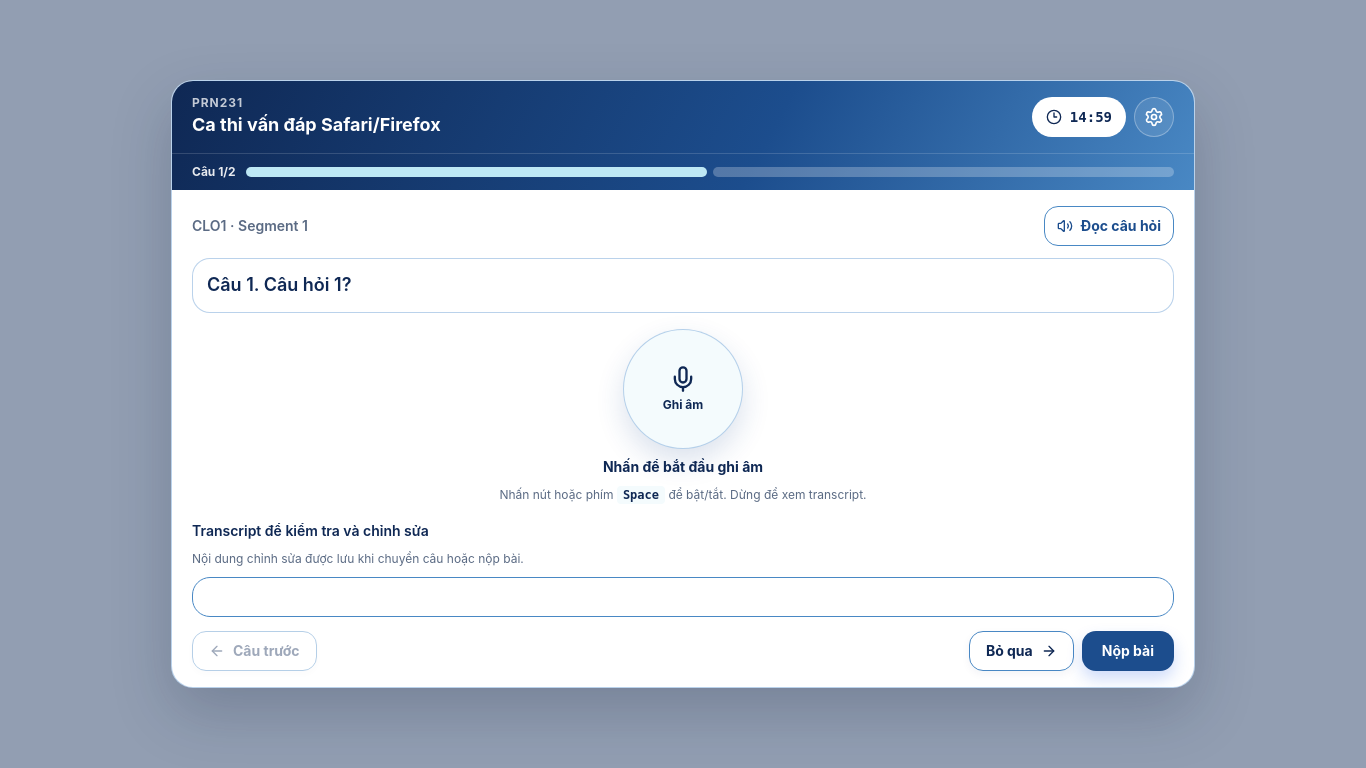
Test: InClassExamSessionPage M2 cross-device fallback & question images › guards 20s segment promises with recordingGenerationRef so cancelled session segments cannot bleed into later recordings
Click the button with aria-label "Bắt đầu ghi âm": (683, 388) [623,328,743,448]
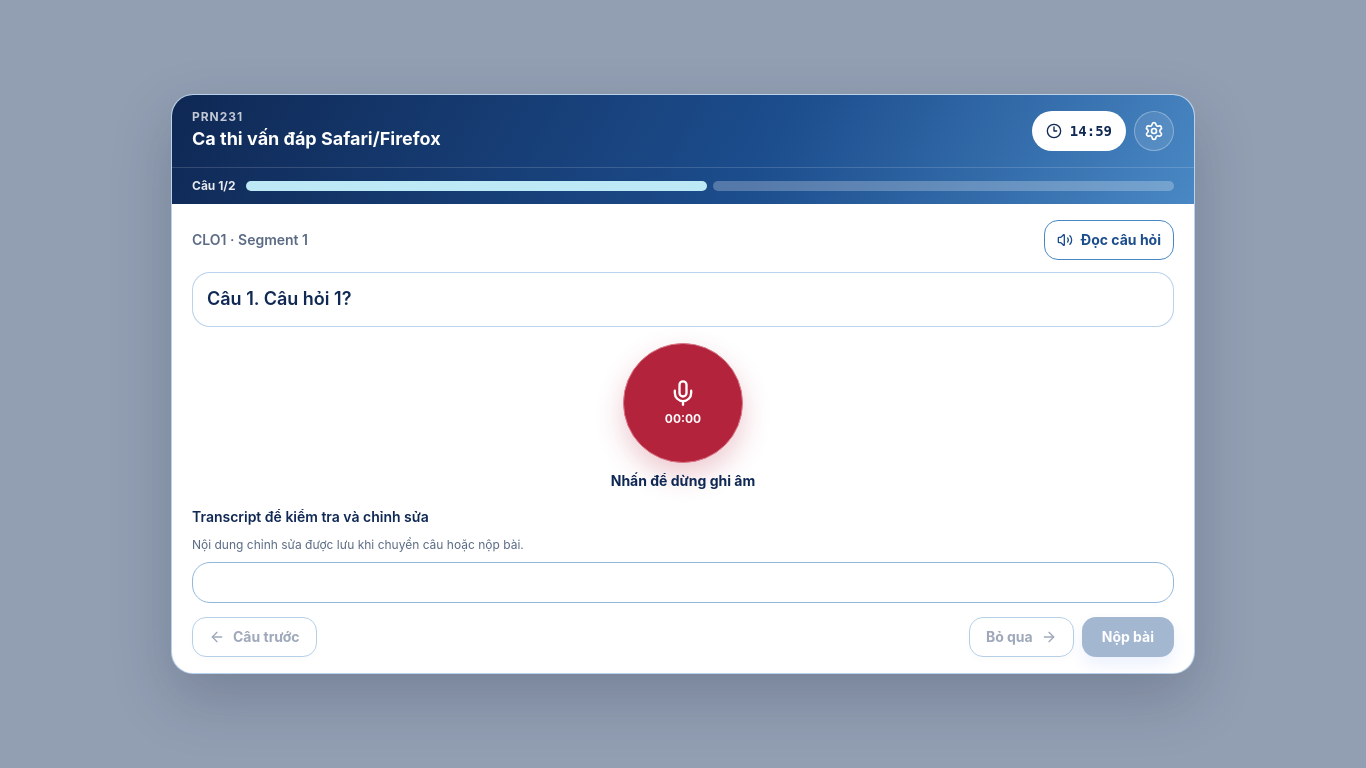
Click the button named "Dừng ghi âm": (683, 403) [623,343,743,463]
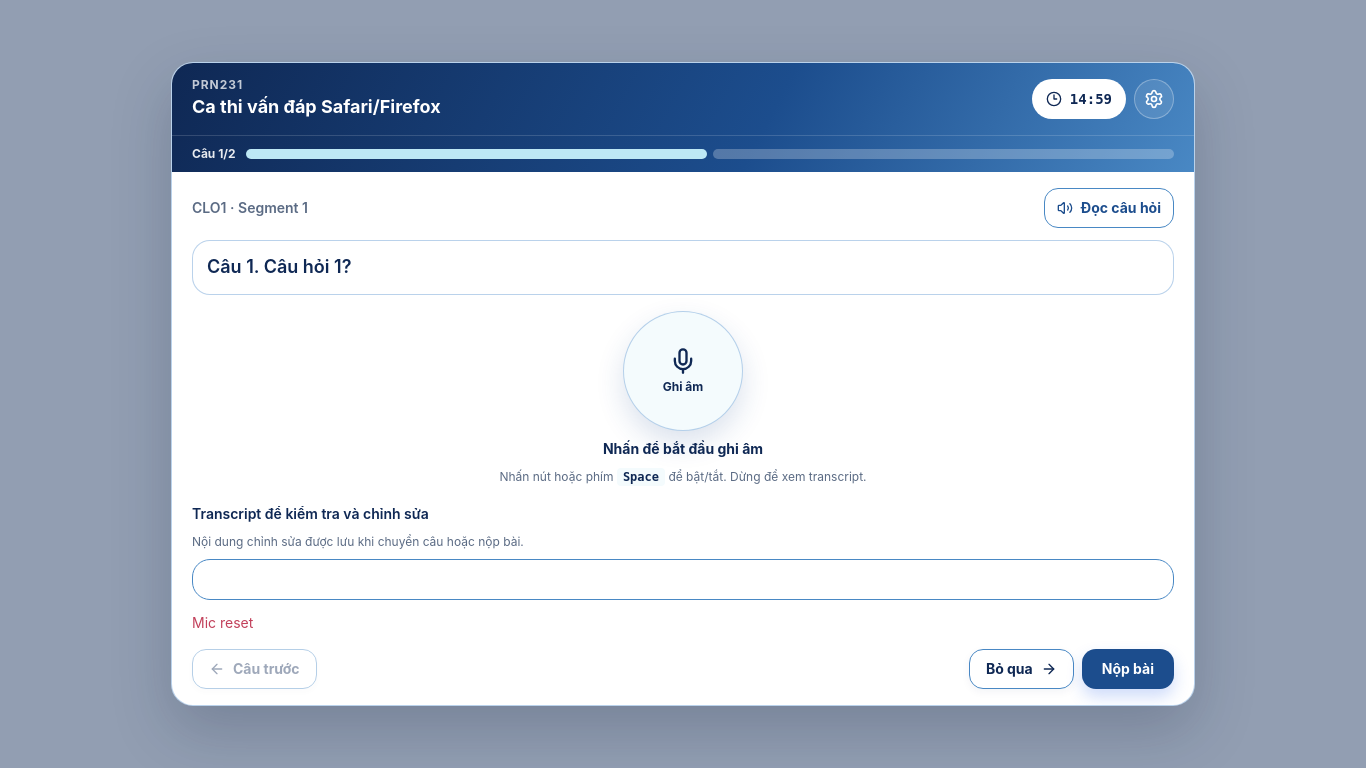
expect the text "Mic reset" is shown: met, box [192,614,253,631]
Click the button named "Chuyển tới câu 2": (943, 154) [713,149,1174,159]
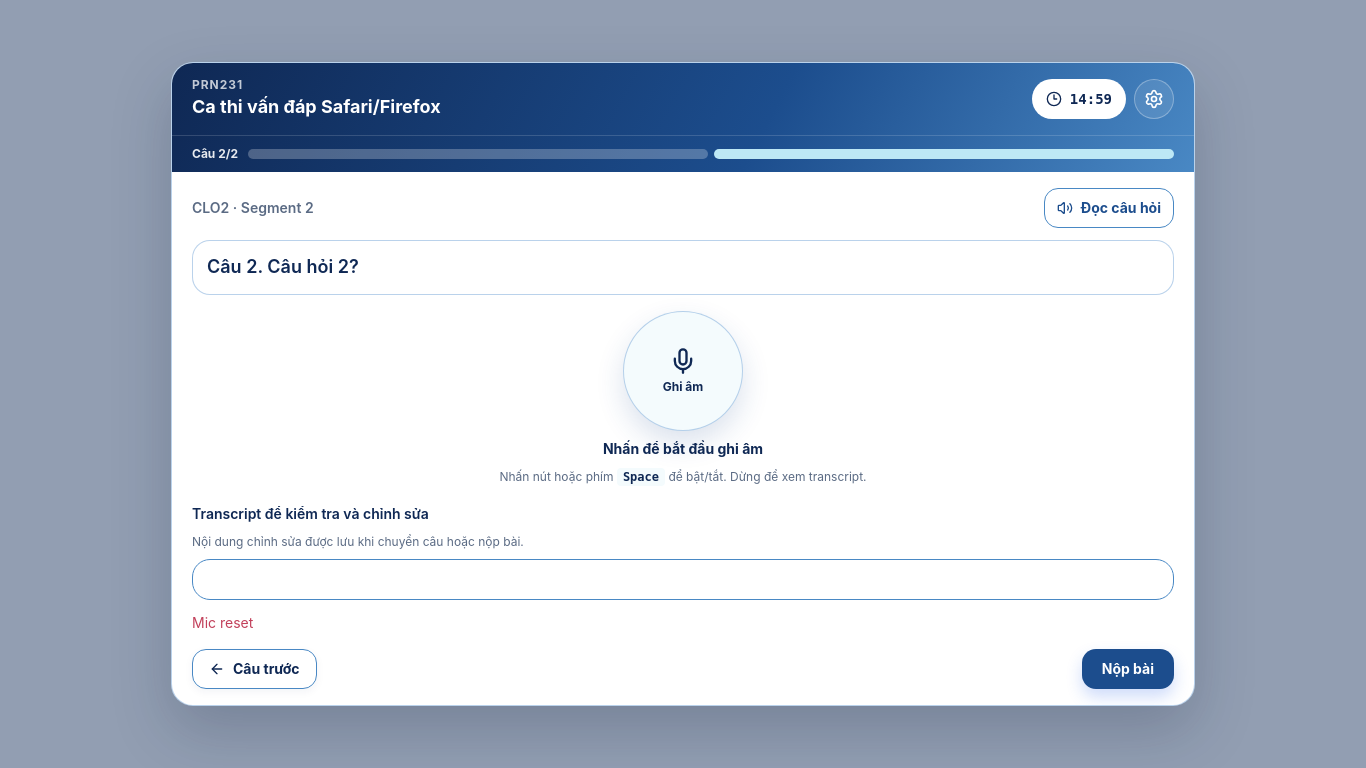
expect the heading "Câu 2. Câu hỏi 2?" is shown: met, box [207,256,359,277]
# Ghi âm mới ở Câu 2 không được dính segment của Câu 1
Click the button with aria-label "Bắt đầu ghi âm": (683, 371) [623,311,743,431]
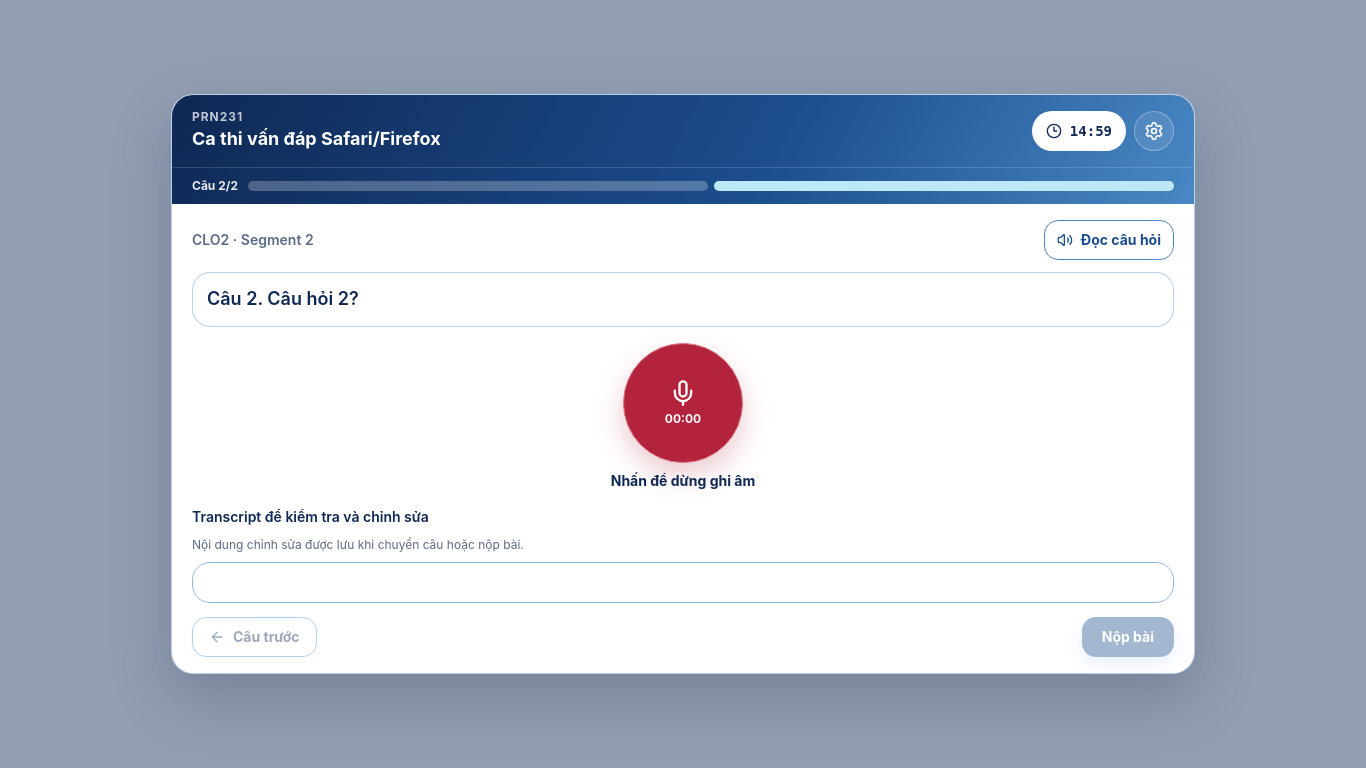
Click the button named "Dừng ghi âm": (683, 403) [623,343,743,463]
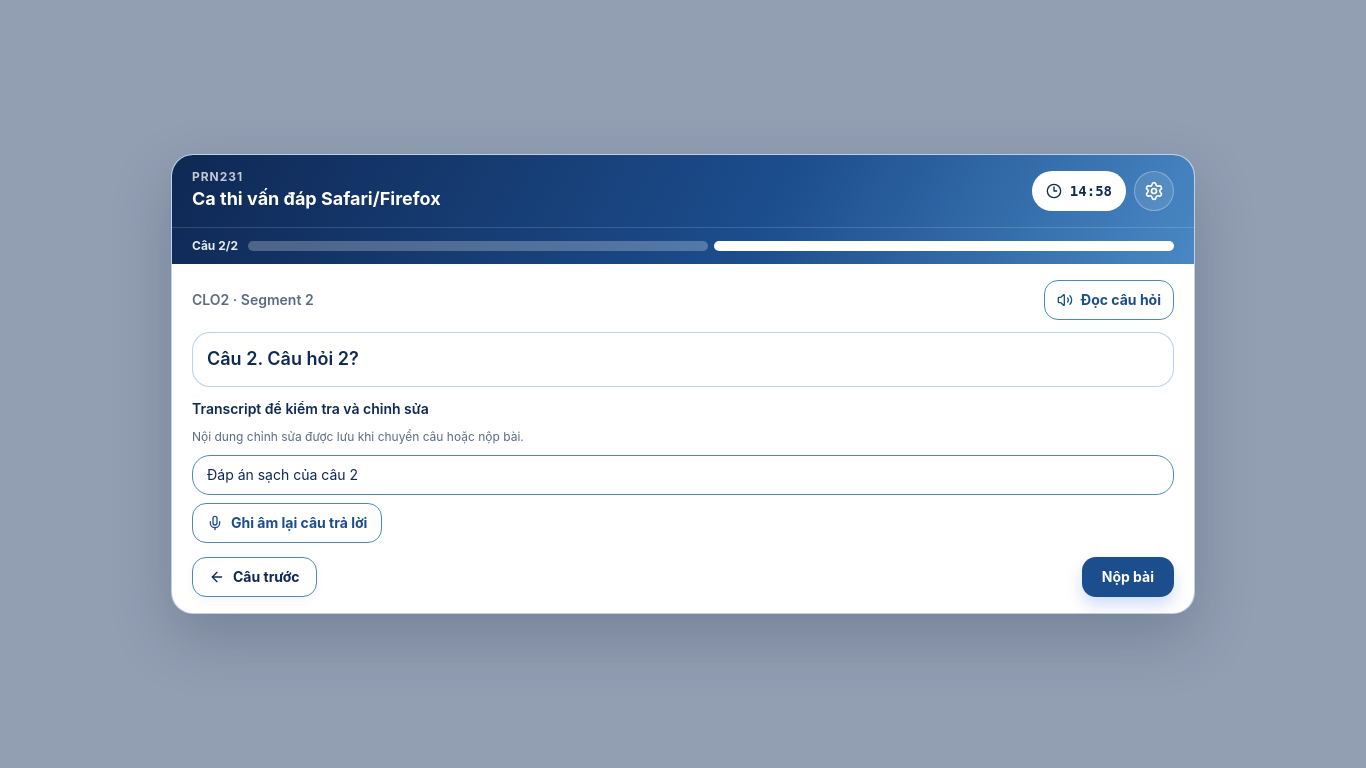
expect the text box labelled "Transcript để kiểm tra và chỉnh sửa" holds "Đáp án sạch của câu 2": met, box [192,455,1174,495]
